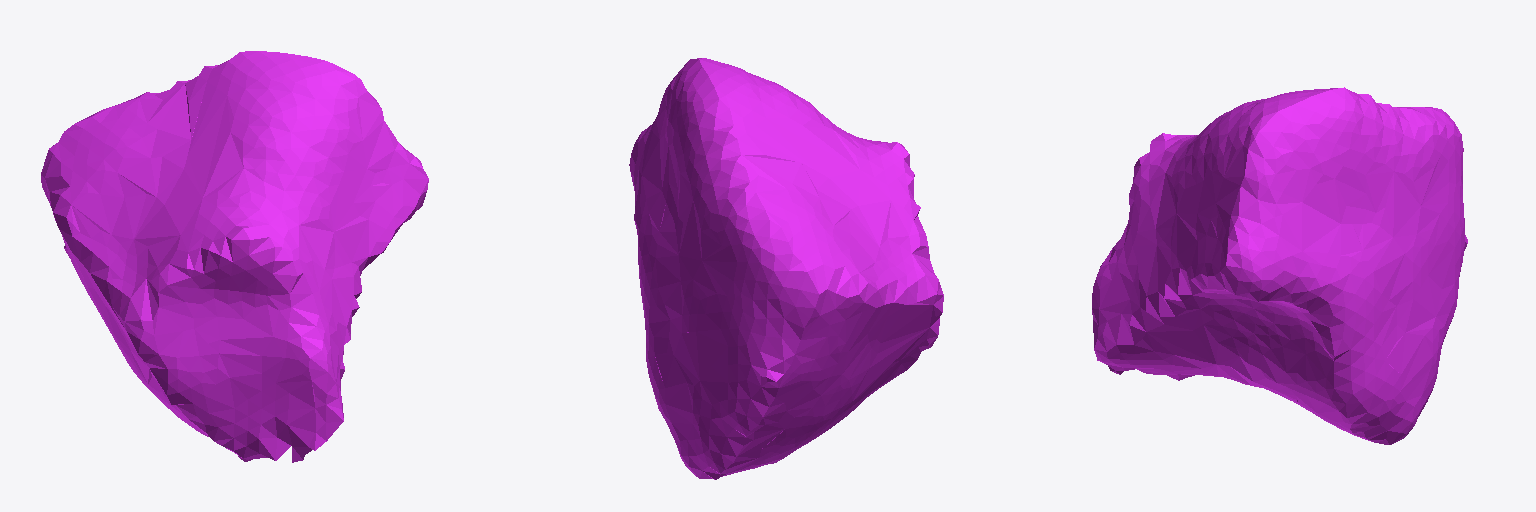
Rendered from Model_10169_LH__Amygdalopiriform_transition_area_(APir).obj.
3 views of the same model, side by side, from view 1: azimuth 30°, elevation 25°; view 2: azimuth 150°, elevation 25°; view 3: azimuth 270°, elevation 25° (orthographic).
Bounding box in the file's own units: 1.76 × 2.02 × 1.91.